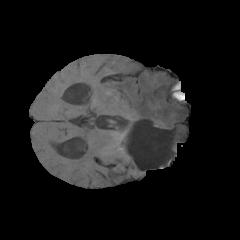glioma: (104, 72, 187, 157)
